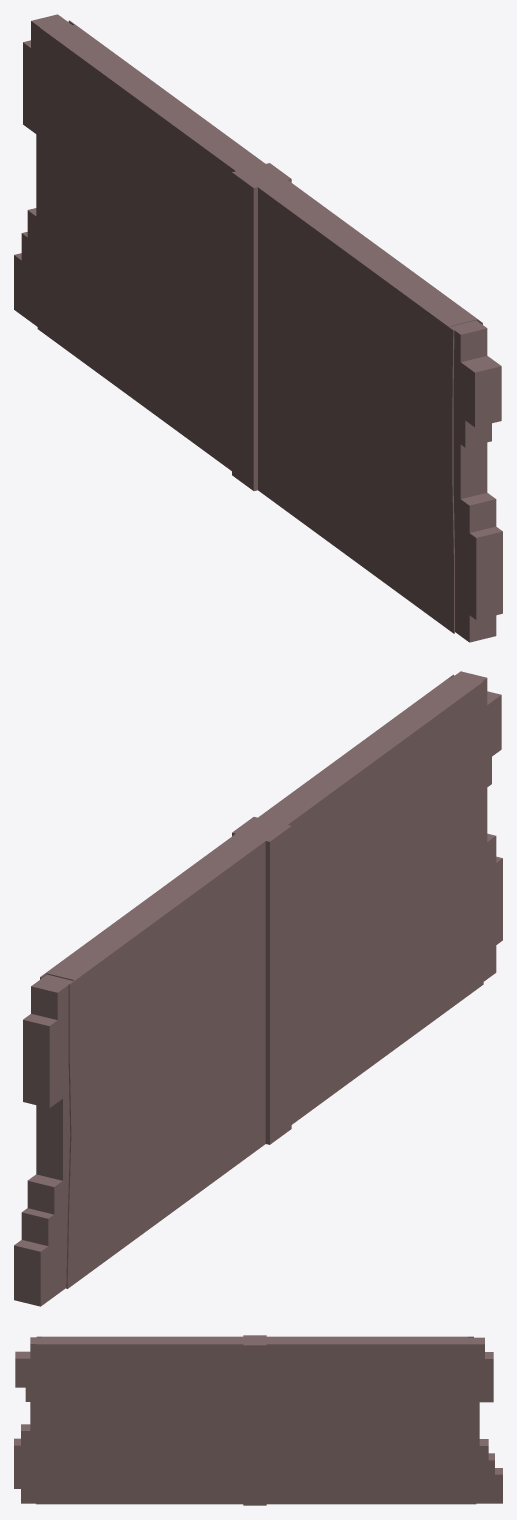
File: walls2_LP.fbx
3 renders of one model, top to bottom at view 1: azimuth 30°, elevation 25°; view 2: azimuth 150°, elevation 25°; view 3: azimuth 270°, elevation 25°, orthographic. The views are drawn at different scales.
Parts seen in each view (by area): view 1: wall2_LP, wall3_LP, wall5_LP, wall4_LP, wall6_LP; view 2: wall3_LP, wall2_LP, wall6_LP, wall4_LP, wall5_LP; view 3: wall3_LP, wall2_LP, wall4_LP, wall6_LP, wall5_LP.
Boxes of the visible parts, x1=… form: wall2_LP: x1=258, y1=180, x2=482, y2=633; wall3_LP: x1=37, y1=20, x2=265, y2=470; wall5_LP: x1=450, y1=320, x2=502, y2=642; wall4_LP: x1=232, y1=163, x2=291, y2=490; wall6_LP: x1=14, y1=14, x2=72, y2=326; wall3_LP: x1=40, y1=833, x2=265, y2=1288; wall2_LP: x1=258, y1=674, x2=483, y2=1124; wall6_LP: x1=14, y1=974, x2=72, y2=1306; wall4_LP: x1=232, y1=817, x2=291, y2=1144; wall5_LP: x1=450, y1=671, x2=502, y2=981; wall3_LP: x1=266, y1=1336, x2=476, y2=1504; wall2_LP: x1=36, y1=1336, x2=243, y2=1504; wall4_LP: x1=243, y1=1335, x2=266, y2=1505; wall6_LP: x1=468, y1=1337, x2=502, y2=1503; wall5_LP: x1=14, y1=1337, x2=41, y2=1503.
Size of the model in its own units: 55 by 420 by 1161.
